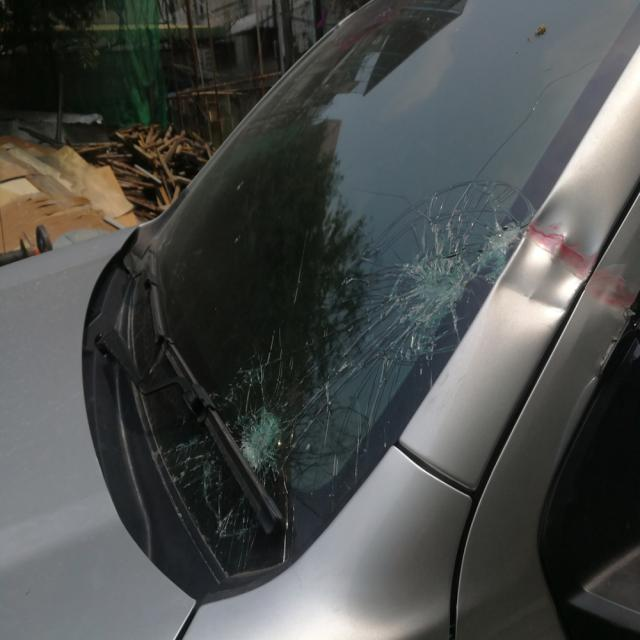Cabossage: (505, 143, 605, 343)
Fissure: (164, 305, 362, 574), (325, 149, 542, 391), (504, 52, 605, 155)
Rayure: (528, 218, 635, 319)
